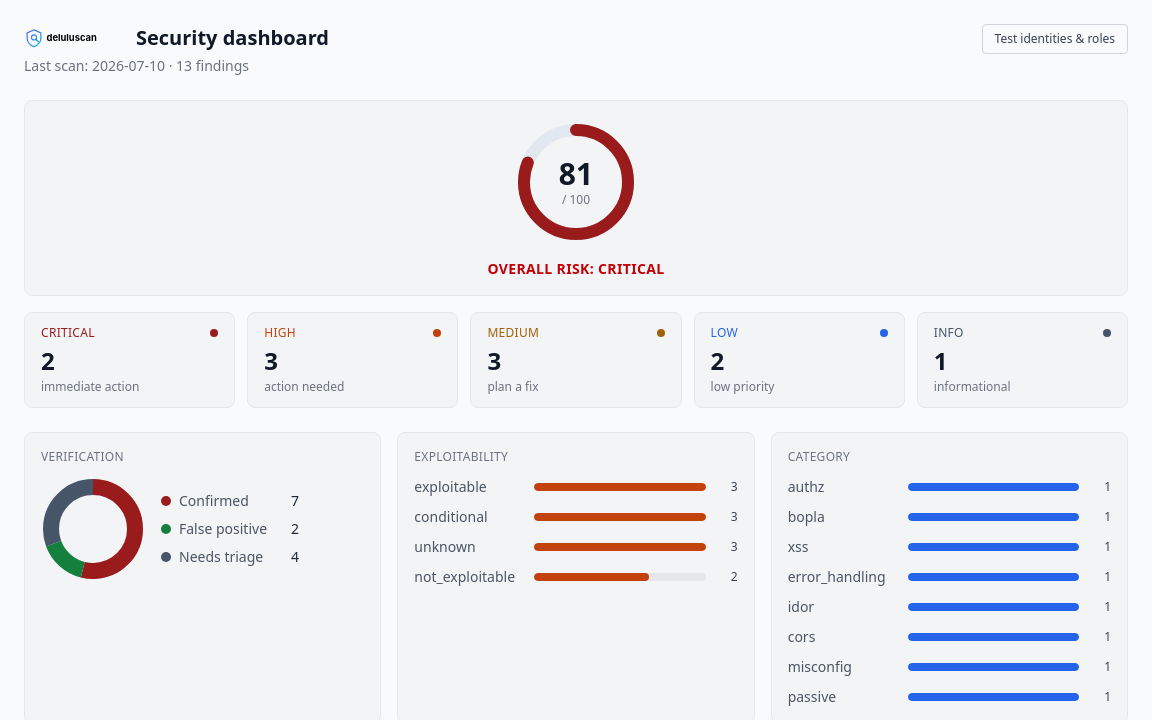
Test case: SecurityDashboard (mirrored target-aios tree, sample data) › opens the identity & role reference panel with honest role context
Click the button "Test identities & roles".
click(1055, 39)  # box [982,24,1128,54]
(page scrolled)
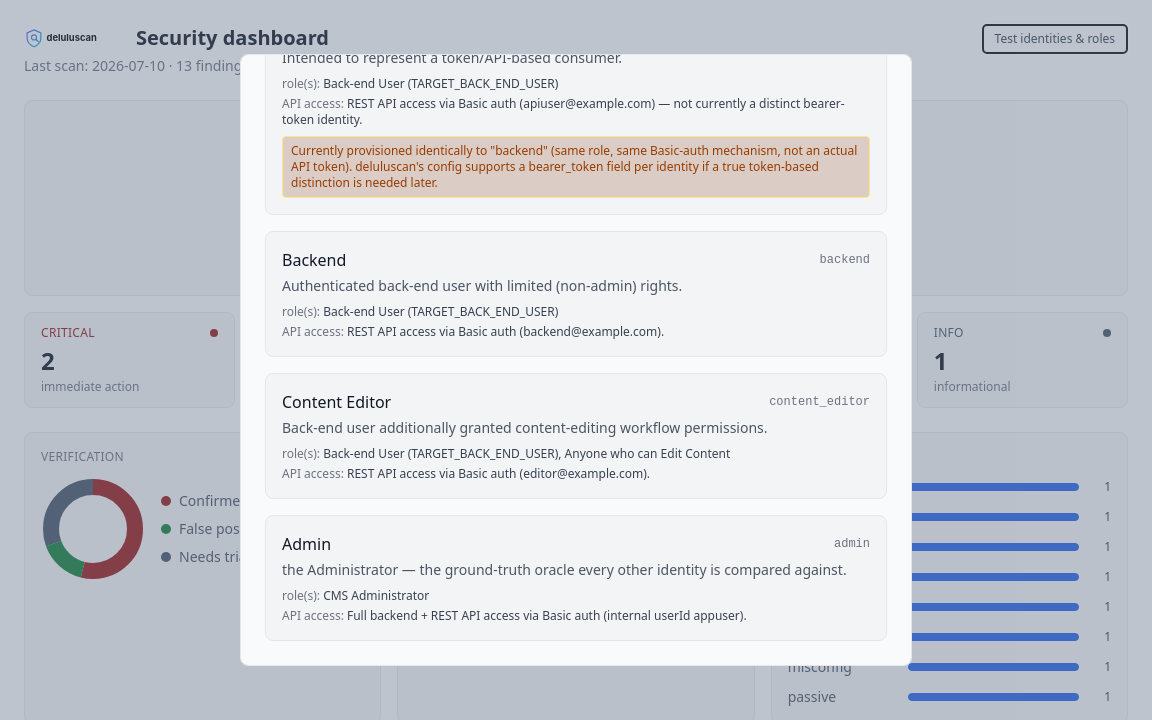
expect the text "CMS Administrator" is shown: met, box [323,587,429,604]
